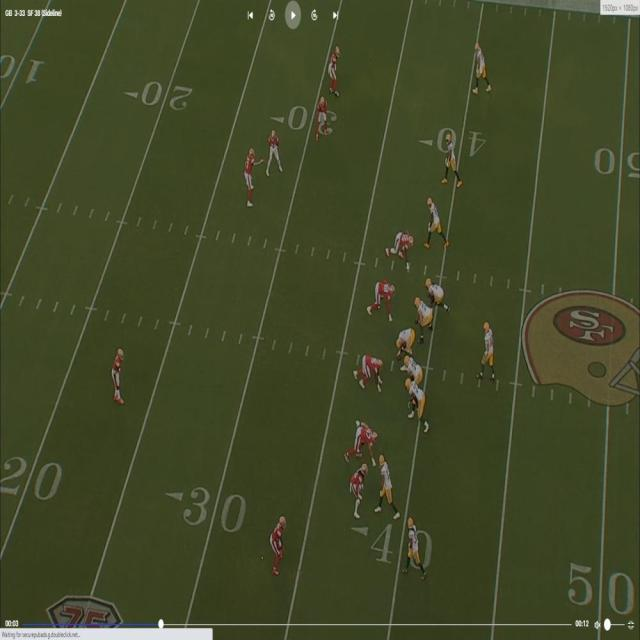center: (395, 328, 416, 354)
db: (269, 128, 285, 174), (274, 516, 286, 576), (112, 348, 124, 401), (247, 150, 257, 202), (329, 47, 339, 94)
lb: (352, 466, 364, 518), (316, 96, 330, 139)
qb: (483, 319, 494, 382)
skill: (404, 518, 422, 573), (379, 456, 396, 509), (426, 195, 444, 245), (446, 132, 461, 184), (472, 42, 488, 90), (414, 385, 428, 429)
